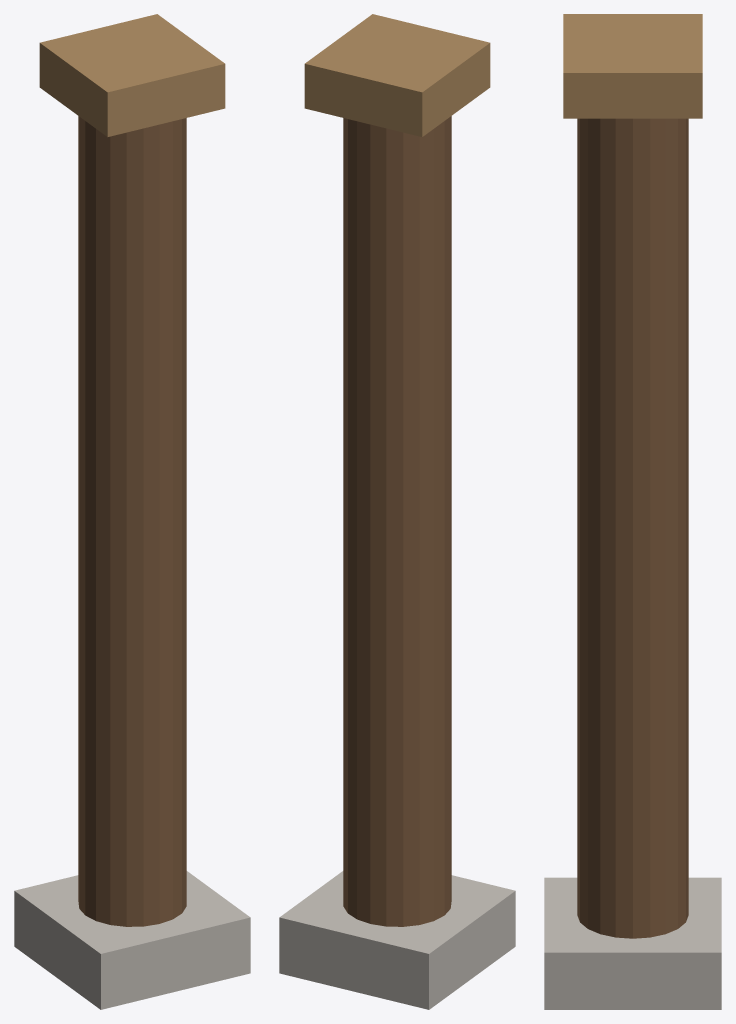
The model's file is pillar.glb.
The picture shows the model from 3 angles, left to right: view 1: azimuth 30°, elevation 25°; view 2: azimuth 150°, elevation 25°; view 3: azimuth 270°, elevation 25°; orthographic projection. The views are drawn at different scales.
Parts seen in each view (by area): view 1: pillar; view 2: pillar; view 3: pillar.
Part boxes in pixels (left/top/right/bottom): pillar: left=14, top=14, right=250, bottom=1009; pillar: left=279, top=14, right=515, bottom=1009; pillar: left=544, top=14, right=721, bottom=1009.
Size of the model in its own units: 0.7 by 4.05 by 0.7.
